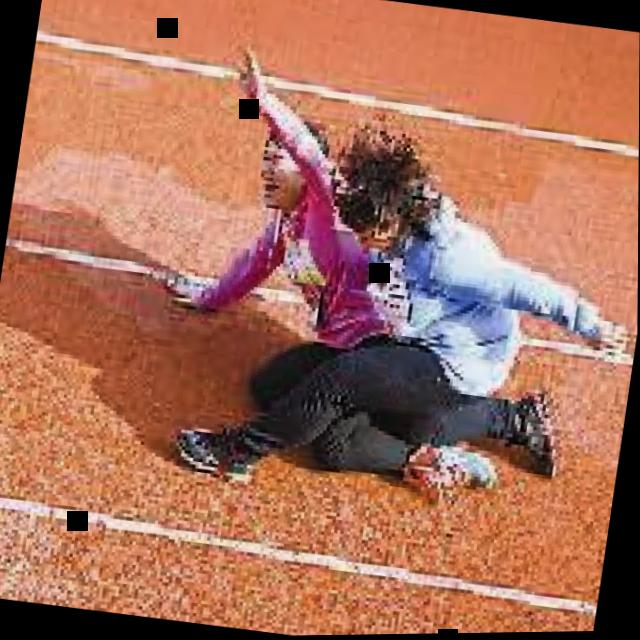Fall-Detected: (128, 29, 640, 530)
